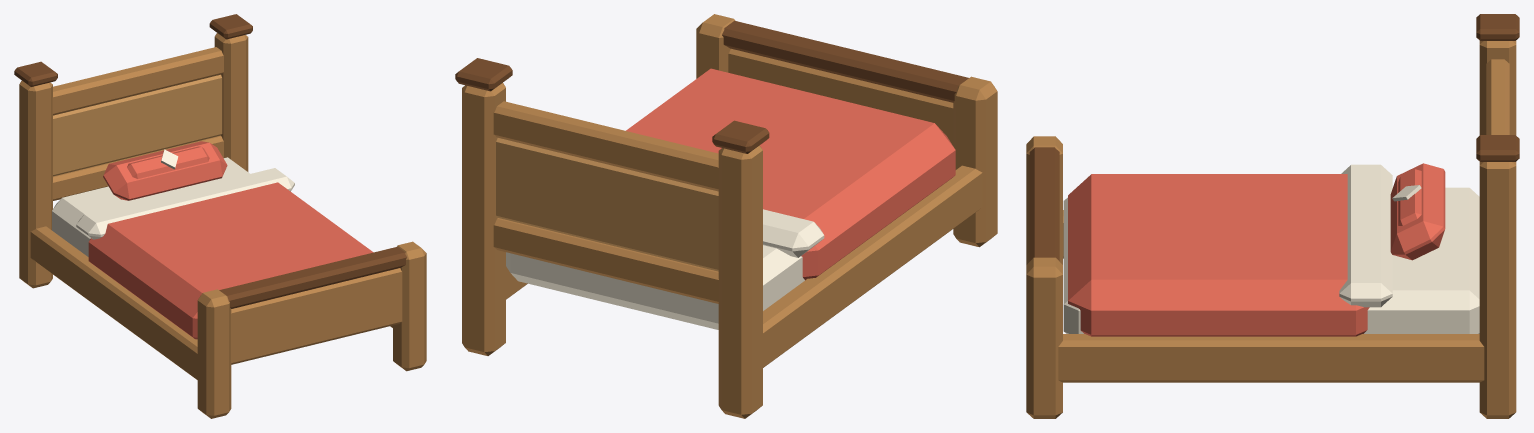
File: bed.glb
3 views of the same model, side by side, from view 1: azimuth 30°, elevation 25°; view 2: azimuth 150°, elevation 25°; view 3: azimuth 270°, elevation 25° (orthographic). The views are drawn at different scales.
Visible parts, largest first — view 1: bed; view 2: bed; view 3: bed.
Part boxes in pixels (x1=…): bed: x1=14, y1=14, x2=426, y2=418; bed: x1=455, y1=14, x2=997, y2=418; bed: x1=1026, y1=14, x2=1519, y2=418.
Size of the model in its own units: 0.99 by 0.9 by 1.48.
